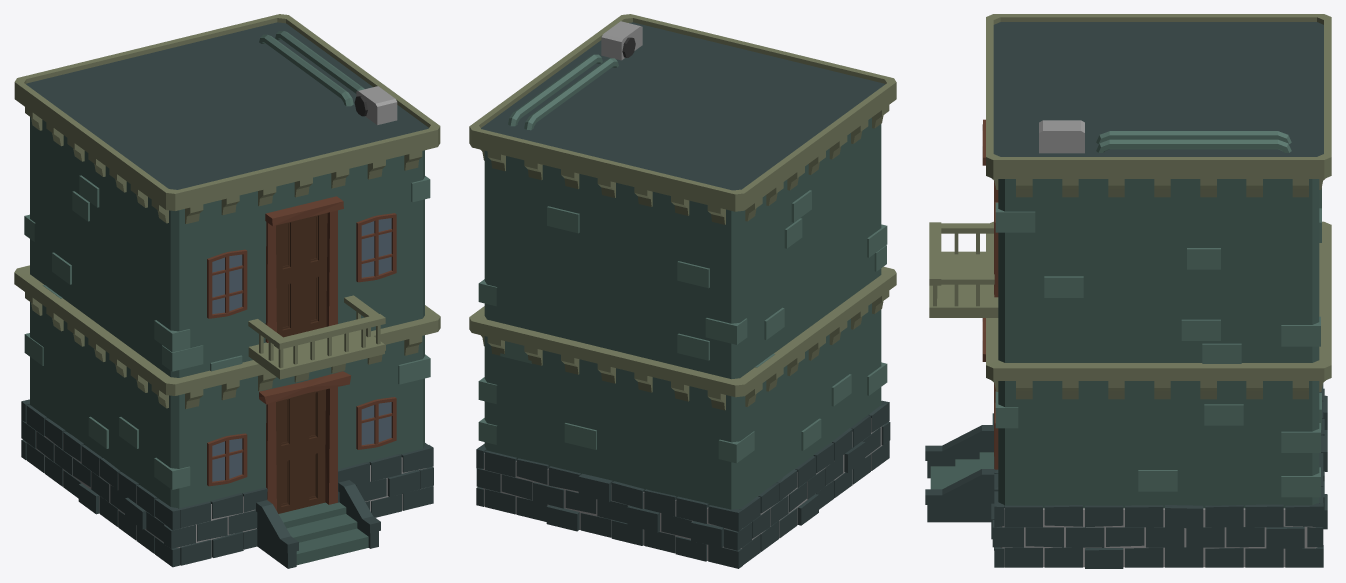
The model's file is 2Story_Balcony.glb.
The picture shows the model from 3 angles, left to right: view 1: azimuth 30°, elevation 25°; view 2: azimuth 150°, elevation 25°; view 3: azimuth 270°, elevation 25°; orthographic projection. The views are drawn at different scales.
Parts seen in each view (by area): view 1: 2Story_Balcony_Mat; view 2: 2Story_Balcony_Mat; view 3: 2Story_Balcony_Mat.
Boxes of the visible parts, x1=… form: 2Story_Balcony_Mat: x1=14, y1=14, x2=440, y2=568; 2Story_Balcony_Mat: x1=469, y1=14, x2=896, y2=568; 2Story_Balcony_Mat: x1=925, y1=14, x2=1331, y2=568.
Size of the model in its own units: 2.16 by 2.94 by 2.53.
